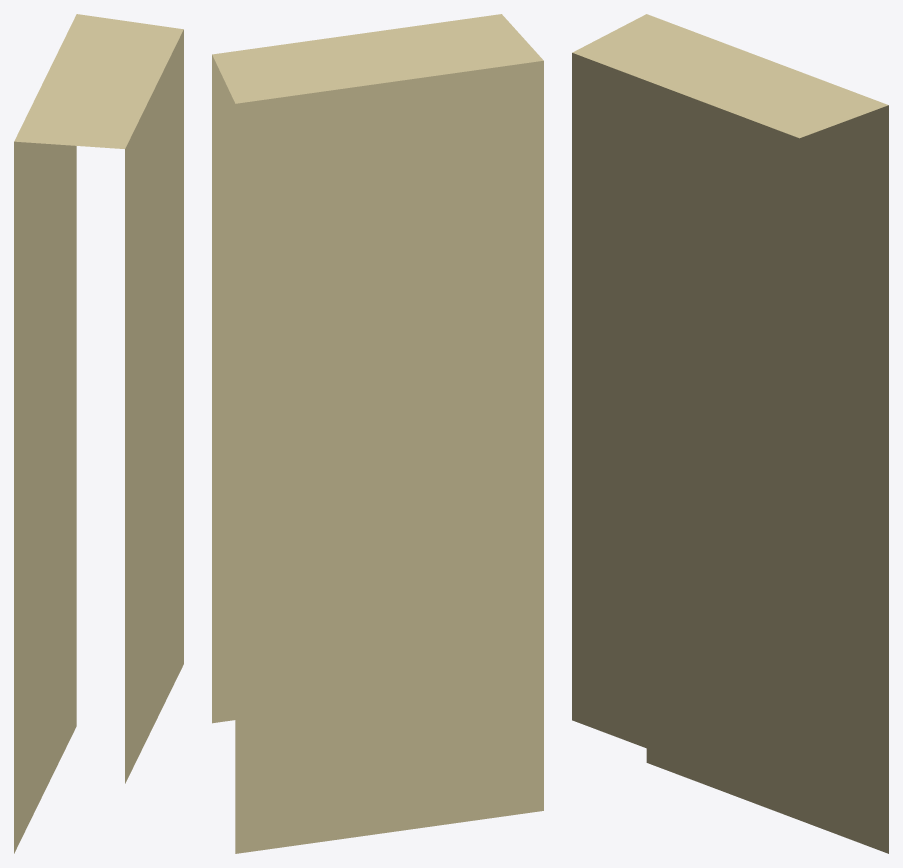
The model's file is wall15.fbx.
3 views of the same model, side by side, from view 1: azimuth 30°, elevation 25°; view 2: azimuth 150°, elevation 25°; view 3: azimuth 270°, elevation 25° (orthographic). The views are drawn at different scales.
Visible parts, largest first — view 1: duvar.022; view 2: duvar.022; view 3: duvar.022.
Part boxes in pixels (x1=…): duvar.022: x1=14, y1=14, x2=183, y2=853; duvar.022: x1=212, y1=14, x2=543, y2=853; duvar.022: x1=572, y1=14, x2=888, y2=853.
Size of the model in its own units: 16.03 by 44.99 by 17.25.
